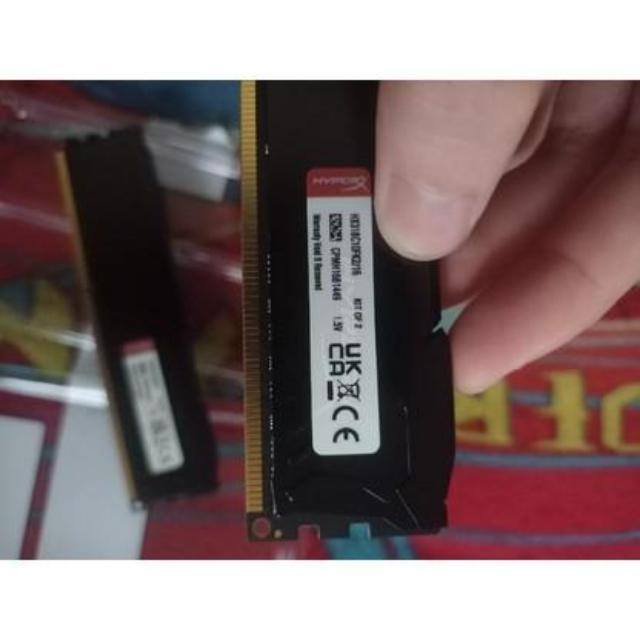RAM: (238, 78, 458, 544), (54, 111, 229, 518)
